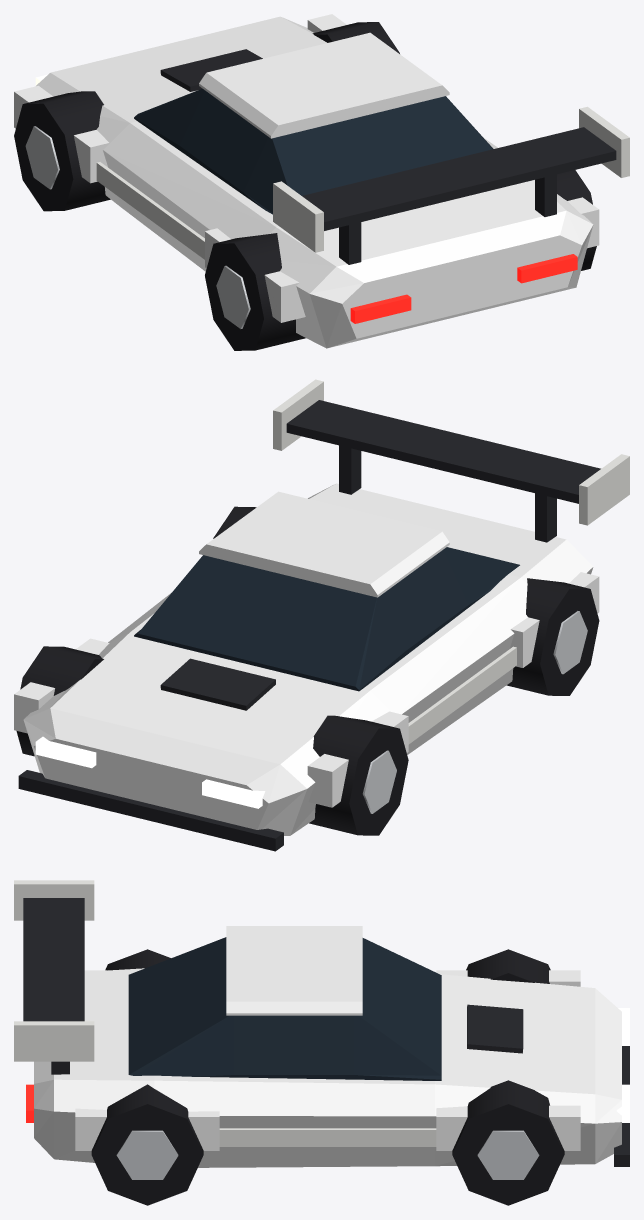
File: tuner.glb
3 renders of one model, top to bottom at view 1: azimuth 30°, elevation 25°; view 2: azimuth 150°, elevation 25°; view 3: azimuth 270°, elevation 25°, orthographic. The views are drawn at different scales.
Parts seen in each view (by area): view 1: object 1, object 2, object 3, wheel (×4), object 12, wheel-hub (×2), object 6, object 13, object 5, object 4, object 15, object 14 (+6 smaller); view 2: object 1, object 2, wheel (×3), object 3, object 12, object 16, object 15, wheel-hub (×2), object 6, object 13, object 4, object 14 (+6 smaller); view 3: object 1, object 2, wheel (×4), object 3, object 12, wheel-hub (×2), object 10, object 14, object 15, object 8, object 9, object 13 (+2 smaller).
Part boxes in pixels (x1,y1,x2,y2): object 1: [36, 16, 593, 348]; object 2: [134, 88, 493, 214]; object 3: [199, 32, 449, 138]; wheel (×4): [14, 22, 596, 350]; object 12: [302, 127, 616, 230]; wheel-hub (×2): [25, 126, 250, 328]; object 6: [96, 162, 204, 259]; object 13: [273, 181, 323, 252]; object 5: [205, 228, 305, 322]; object 4: [14, 85, 108, 183]; object 15: [160, 49, 262, 91]; object 14: [579, 106, 629, 177]; object 1: [23, 483, 593, 835]; object 2: [134, 547, 519, 691]; wheel (×3): [16, 578, 599, 835]; object 3: [199, 491, 449, 597]; object 12: [286, 400, 600, 503]; object 16: [18, 770, 283, 851]; object 15: [160, 658, 275, 710]; wheel-hub (×2): [362, 611, 587, 813]; object 6: [408, 646, 516, 744]; object 13: [579, 454, 629, 525]; object 4: [307, 711, 408, 807]; object 14: [273, 379, 323, 450]; object 1: [34, 968, 621, 1167]; object 2: [128, 937, 441, 1080]; wheel (×4): [91, 949, 564, 1205]; object 3: [226, 926, 362, 1015]; object 12: [23, 898, 84, 1021]; wheel-hub (×2): [116, 1130, 539, 1179]; object 10: [219, 1128, 436, 1146]; object 14: [14, 1021, 94, 1061]; object 15: [467, 1004, 523, 1053]; object 8: [436, 1105, 580, 1150]; object 9: [75, 1108, 219, 1150]; object 13: [14, 880, 94, 920].
Size of the model in its own units: 2.77 by 1.45 by 4.61.
